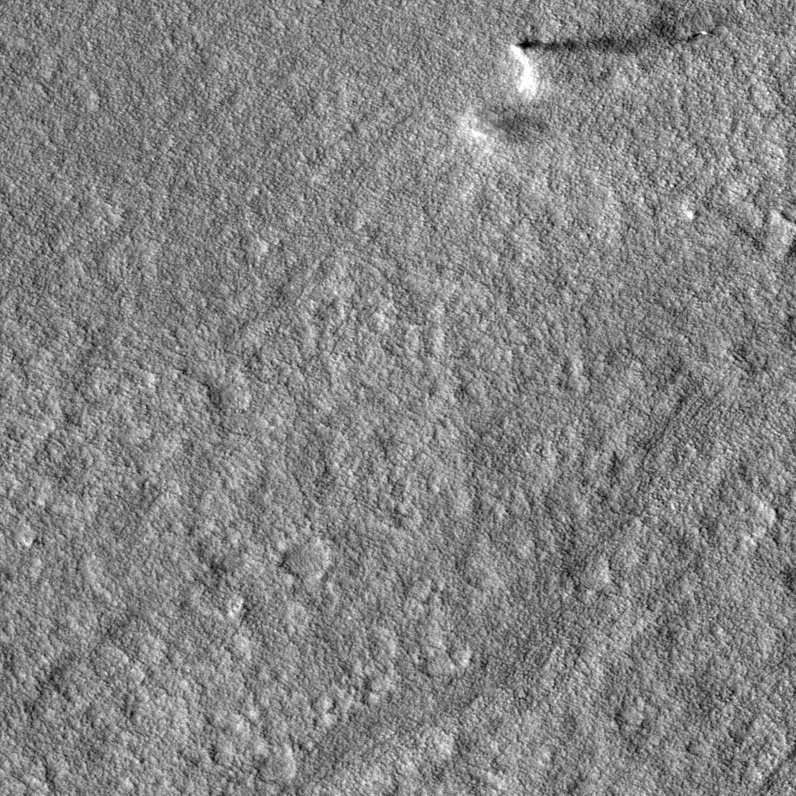dust_devil: (507, 12, 683, 102), (457, 100, 553, 149)
